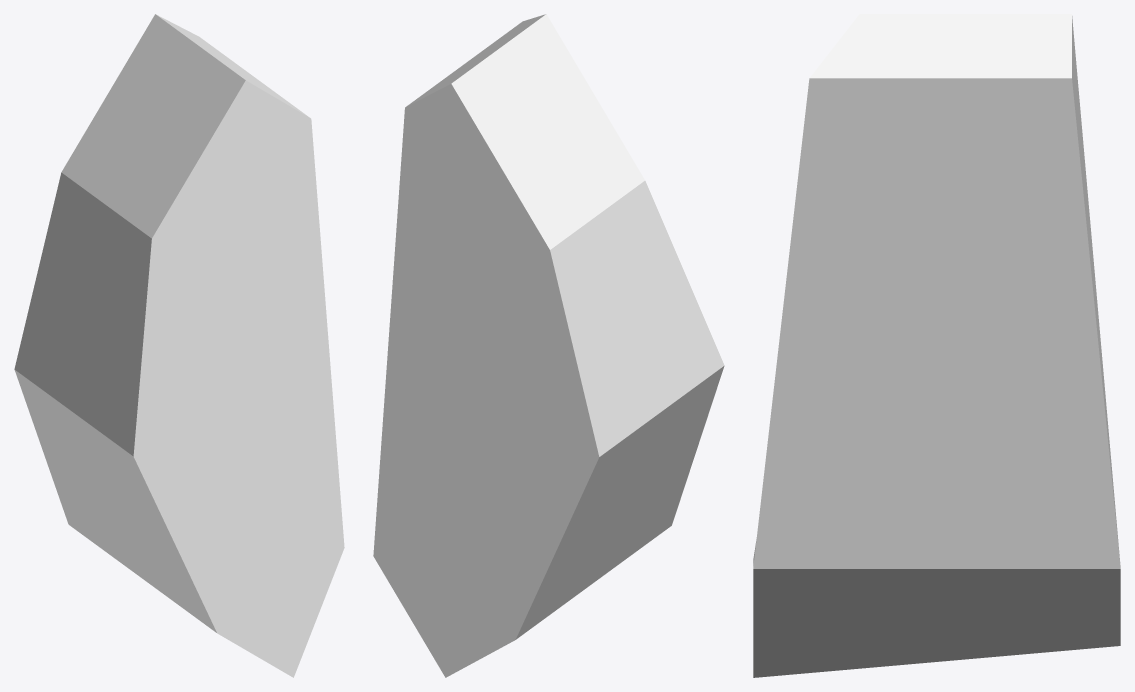
File: charcoal_2.fbx
3 renders of one model, left to right at view 1: azimuth 30°, elevation 25°; view 2: azimuth 150°, elevation 25°; view 3: azimuth 270°, elevation 25°, orthographic. The views are drawn at different scales.
Parts seen in each view (by area): view 1: charcoal_2; view 2: charcoal_2; view 3: charcoal_2.
Part boxes in pixels (x1,y1,x2,y2): charcoal_2: (14,14,344,677); charcoal_2: (373,14,724,677); charcoal_2: (753,14,1120,677).
Bounding box in the file's own units: 151 × 419 × 211.
